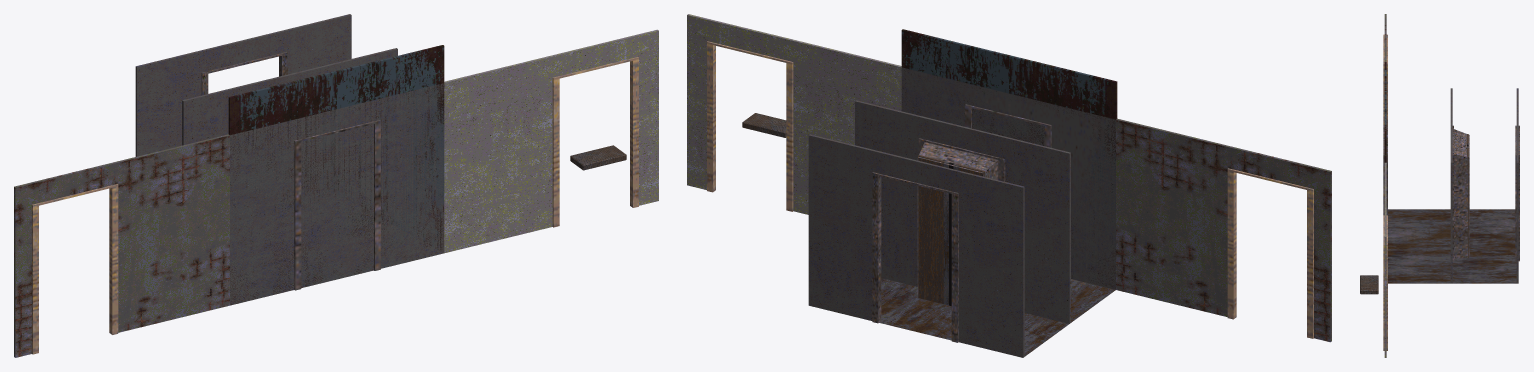
Rendered from Lift.fbx.
3 renders of one model, left to right at view 1: azimuth 30°, elevation 25°; view 2: azimuth 150°, elevation 25°; view 3: azimuth 270°, elevation 25°, orthographic. The views are drawn at different scales.
Visible parts, largest first — view 1: Wall, WallDoor1, WallDoor2, LiftWall, WallForDoor, WallForLiftDoor, WallDoor, CeilingLamp; view 2: WallForDoor, WallDoor1, WallForLiftDoor, WallDoor2, WallDoor, Wall, LiftWall, LiftFloor, LiftDoor, CeilingLamp; view 3: LiftFloor, WallForLiftDoor, WallForDoor, WallDoor2, WallDoor1, CeilingLamp, WallDoor, LiftWall, LiftDoor.
Boxes of the visible parts, x1=… form: Wall: x1=230, y1=83, x2=444, y2=305; WallDoor1: x1=14, y1=134, x2=229, y2=357; WallDoor2: x1=444, y1=29, x2=658, y2=253; LiftWall: x1=228, y1=45, x2=444, y2=304; WallForDoor: x1=135, y1=14, x2=351, y2=156; WallForLiftDoor: x1=182, y1=48, x2=397, y2=145; WallDoor: x1=294, y1=120, x2=380, y2=290; CeilingLamp: x1=570, y1=145, x2=626, y2=170; WallForDoor: x1=808, y1=134, x2=1024, y2=357; WallDoor1: x1=1116, y1=118, x2=1331, y2=342; WallForLiftDoor: x1=855, y1=100, x2=1070, y2=323; WallDoor2: x1=687, y1=14, x2=901, y2=214; WallDoor: x1=901, y1=67, x2=1115, y2=289; Wall: x1=901, y1=67, x2=1115, y2=289; LiftWall: x1=901, y1=29, x2=1117, y2=288; LiftFloor: x1=879, y1=278, x2=1115, y2=356; LiftDoor: x1=918, y1=155, x2=984, y2=305; CeilingLamp: x1=742, y1=113, x2=786, y2=137; LiftFloor: x1=1388, y1=209, x2=1516, y2=283; WallForLiftDoor: x1=1450, y1=88, x2=1469, y2=283; WallForDoor: x1=1515, y1=88, x2=1519, y2=283; WallDoor2: x1=1383, y1=162, x2=1387, y2=357; WallDoor1: x1=1383, y1=14, x2=1387, y2=125; CeilingLamp: x1=1360, y1=275, x2=1378, y2=294; WallDoor: x1=1383, y1=125, x2=1387, y2=215; LiftWall: x1=1384, y1=62, x2=1386, y2=162; LiftDoor: x1=1467, y1=134, x2=1468, y2=257.
Bounding box in the file's own units: 1071 × 330 × 324.
